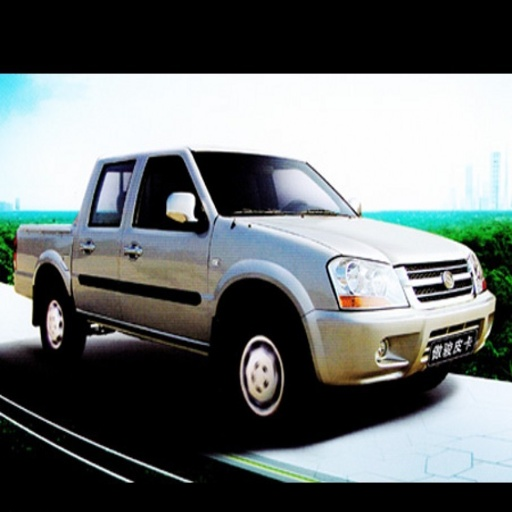back_left_light: (73, 158, 142, 316)
back_right_light: (306, 258, 495, 386)
front_bumper: (198, 154, 352, 215)
front_left_light: (123, 154, 212, 338)
front_right_door: (328, 255, 404, 310)
front_right_light: (276, 216, 471, 264)
tailgate: (14, 226, 71, 298)
trunk: (227, 312, 306, 431), (39, 291, 83, 357)
